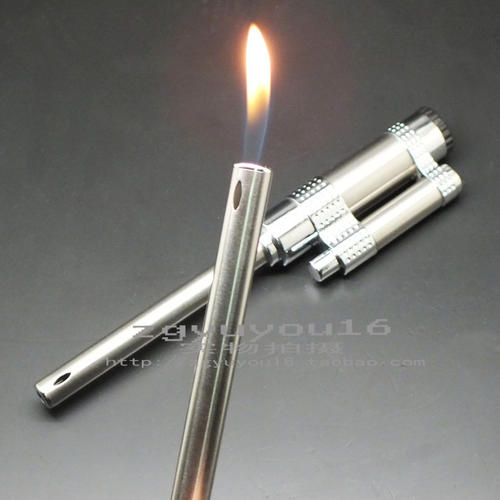Fire: (228, 23, 279, 164)
